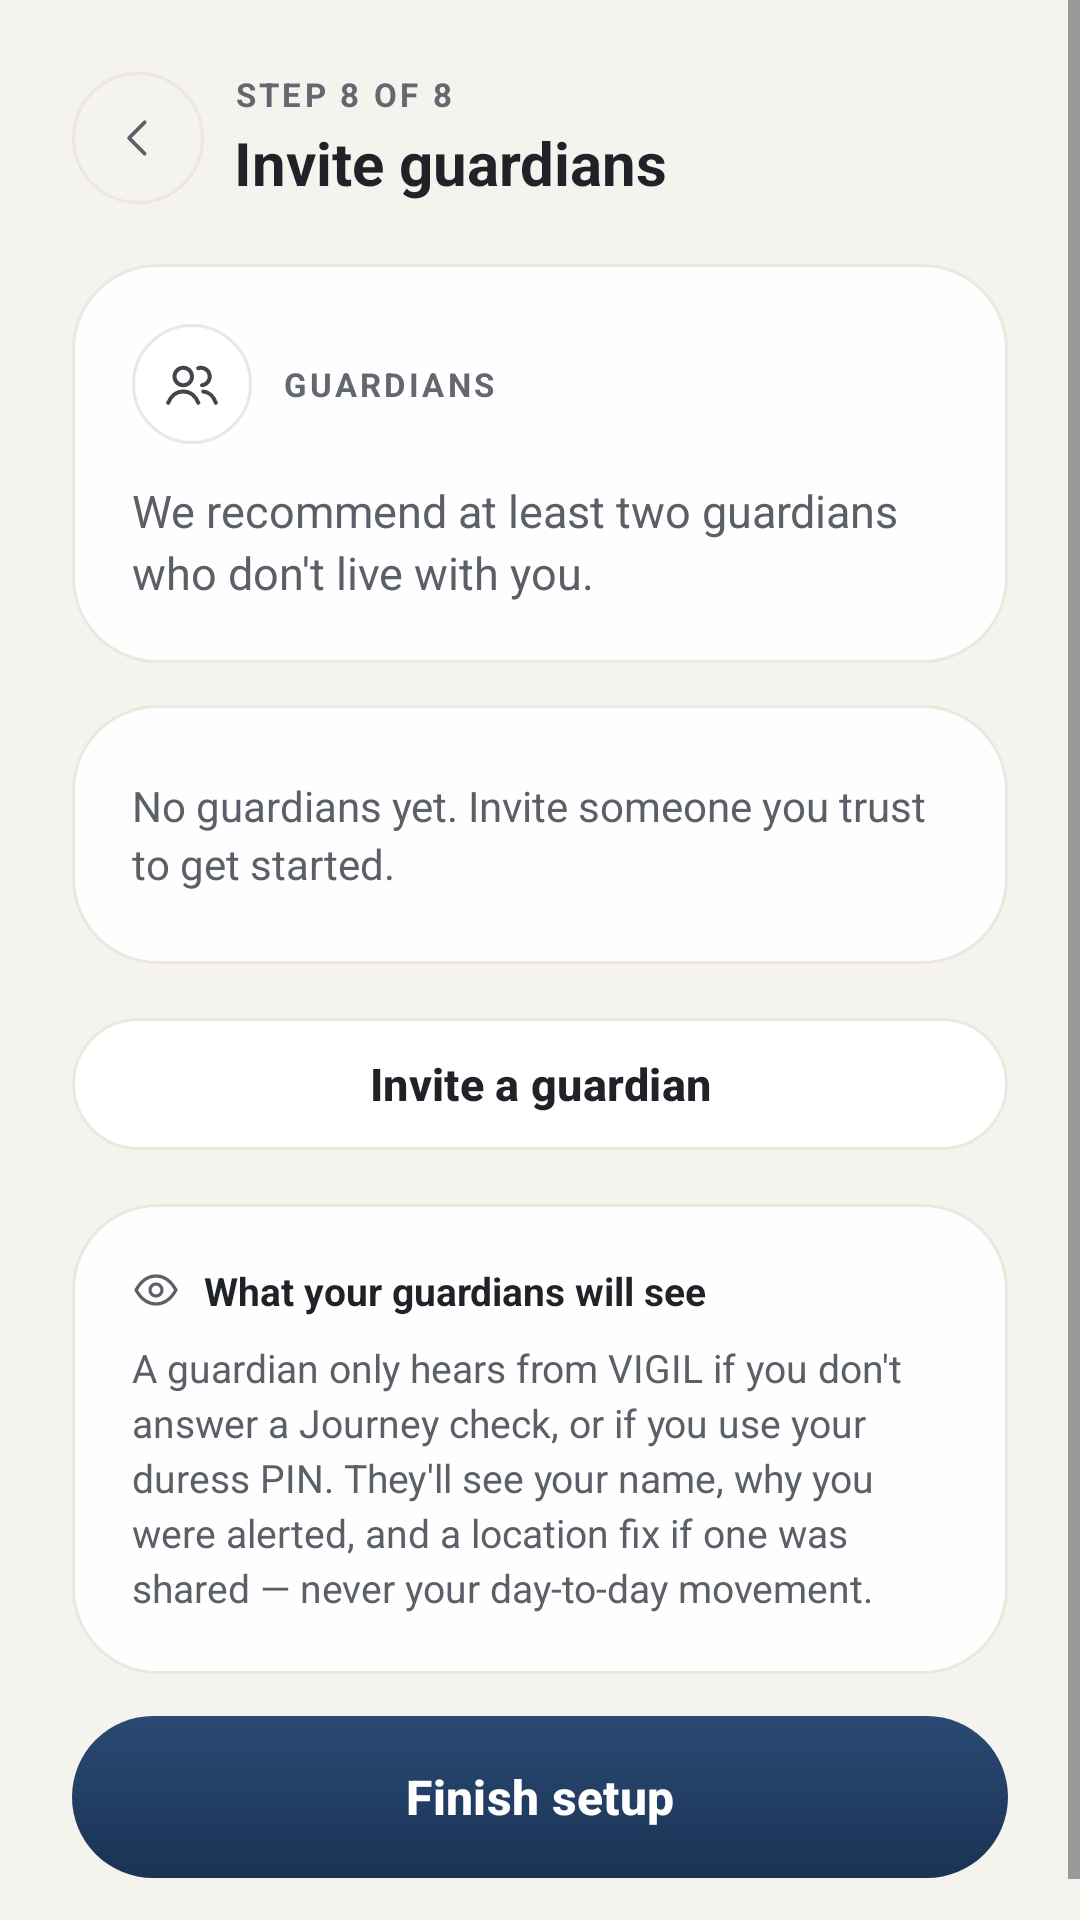

Point at icon controls on the screen. Image size 1080x1920, points as (x,y).
Back: (137,138)
eye: (156,1290)
users: (192,385)
